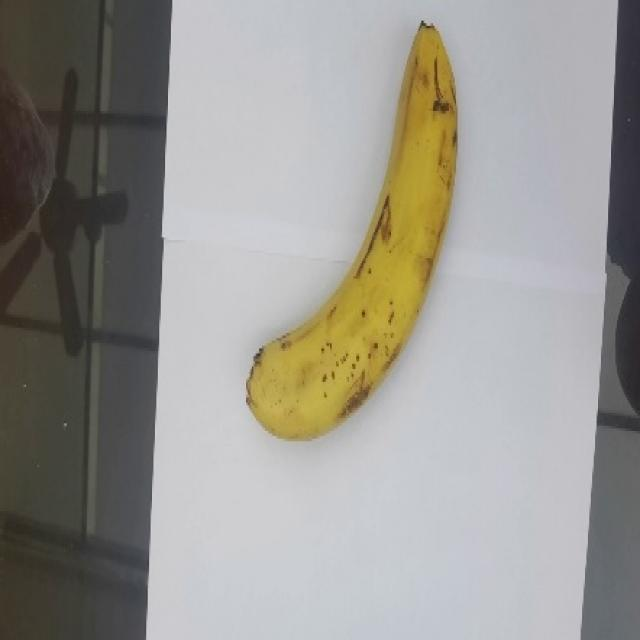Banana: (244, 19, 458, 441)
